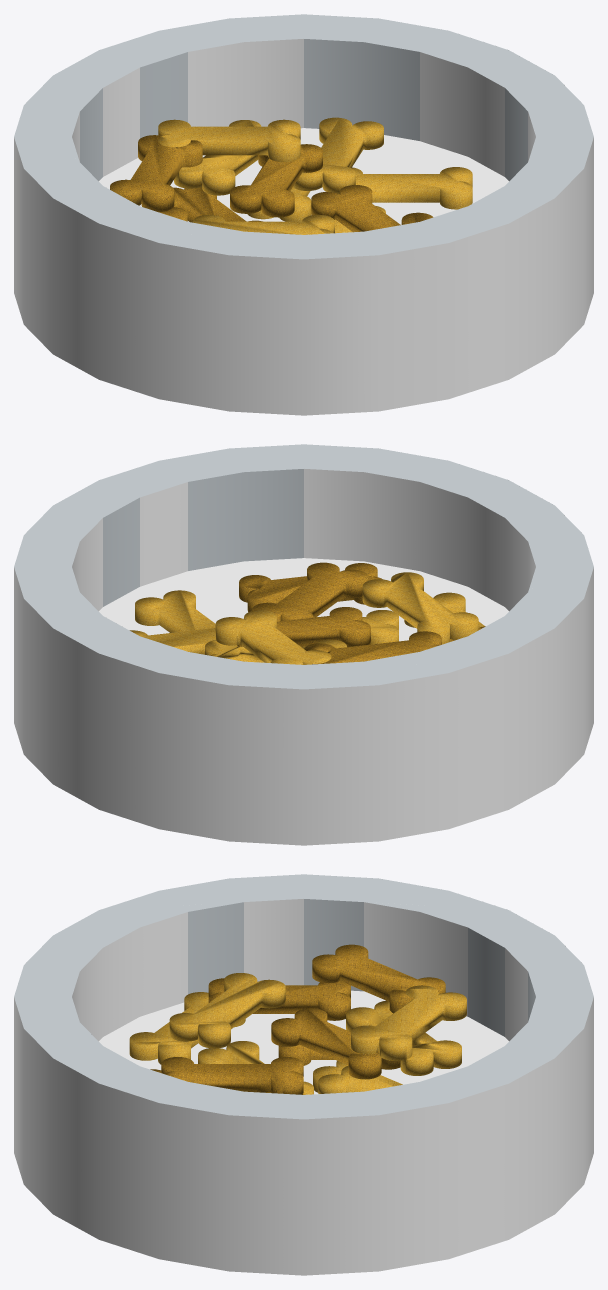
Rendered from cuenco-comida-perro.glb.
The picture shows the model from 3 angles, top to bottom: view 1: azimuth 30°, elevation 25°; view 2: azimuth 150°, elevation 25°; view 3: azimuth 270°, elevation 25°; orthographic projection.
Parts seen in each view (by area): view 1: SketchUp, SketchUp.001, SketchUp.005, SketchUp.004; view 2: SketchUp, SketchUp.001, SketchUp.005, SketchUp.004; view 3: SketchUp, SketchUp.001, SketchUp.005, SketchUp.004.
Part boxes in pixels (x1=…): SketchUp: x1=14, y1=39, x2=593, y2=415; SketchUp.001: x1=14, y1=14, x2=593, y2=259; SketchUp.005: x1=158, y1=117, x2=472, y2=234; SketchUp.004: x1=110, y1=135, x2=433, y2=232; SketchUp: x1=14, y1=469, x2=593, y2=845; SketchUp.001: x1=14, y1=444, x2=593, y2=689; SketchUp.005: x1=130, y1=572, x2=484, y2=664; SketchUp.004: x1=237, y1=562, x2=485, y2=664; SketchUp: x1=14, y1=899, x2=593, y2=1275; SketchUp.001: x1=14, y1=874, x2=593, y2=1119; SketchUp.005: x1=129, y1=973, x2=466, y2=1094; SketchUp.004: x1=150, y1=944, x2=445, y2=1094.
Size of the model in its own units: 0.25 by 0.0743 by 0.25.
4 materials, 2 textured.
